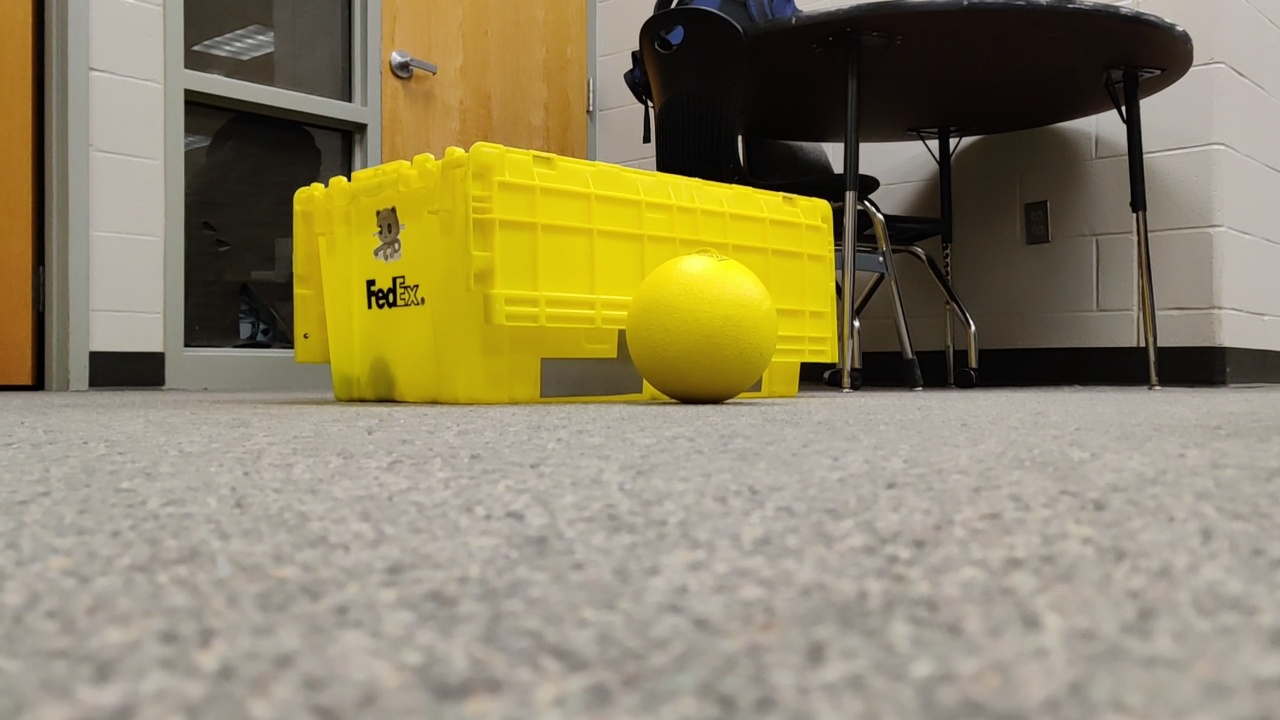Ball: (620, 250, 780, 398)
